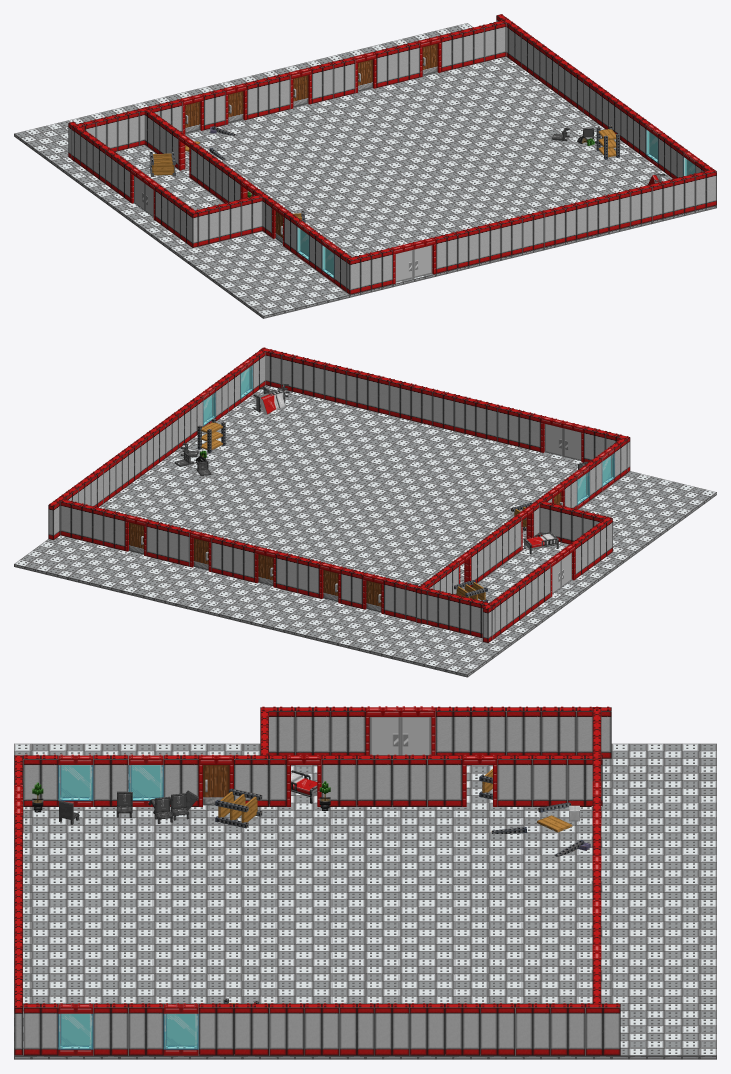
The model's file is Hospital battle field.fbx.
The picture shows the model from 3 angles, top to bottom: view 1: azimuth 30°, elevation 25°; view 2: azimuth 150°, elevation 25°; view 3: azimuth 270°, elevation 25°; orthographic projection. The views are drawn at different scales.
Visible parts, largest first — view 1: cube.110; view 2: cube.110; view 3: cube.110.
Boxes of the visible parts, bbox=[...] form: cube.110: bbox=[14, 14, 716, 318]; cube.110: bbox=[14, 347, 716, 677]; cube.110: bbox=[14, 706, 716, 1059].
Size of the model in its own units: 4203 by 340 by 4000.
